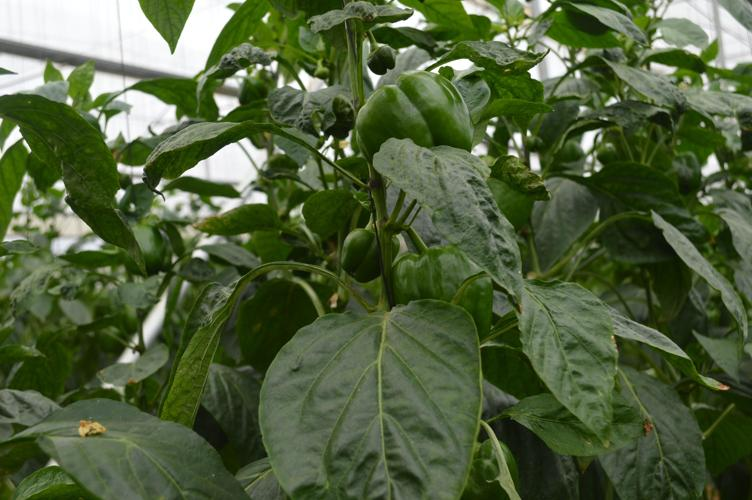BellPepper: (346, 76, 485, 178), (390, 244, 501, 352), (332, 221, 402, 285)
